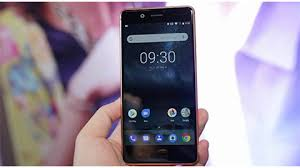nokia: (117, 5, 201, 167)
